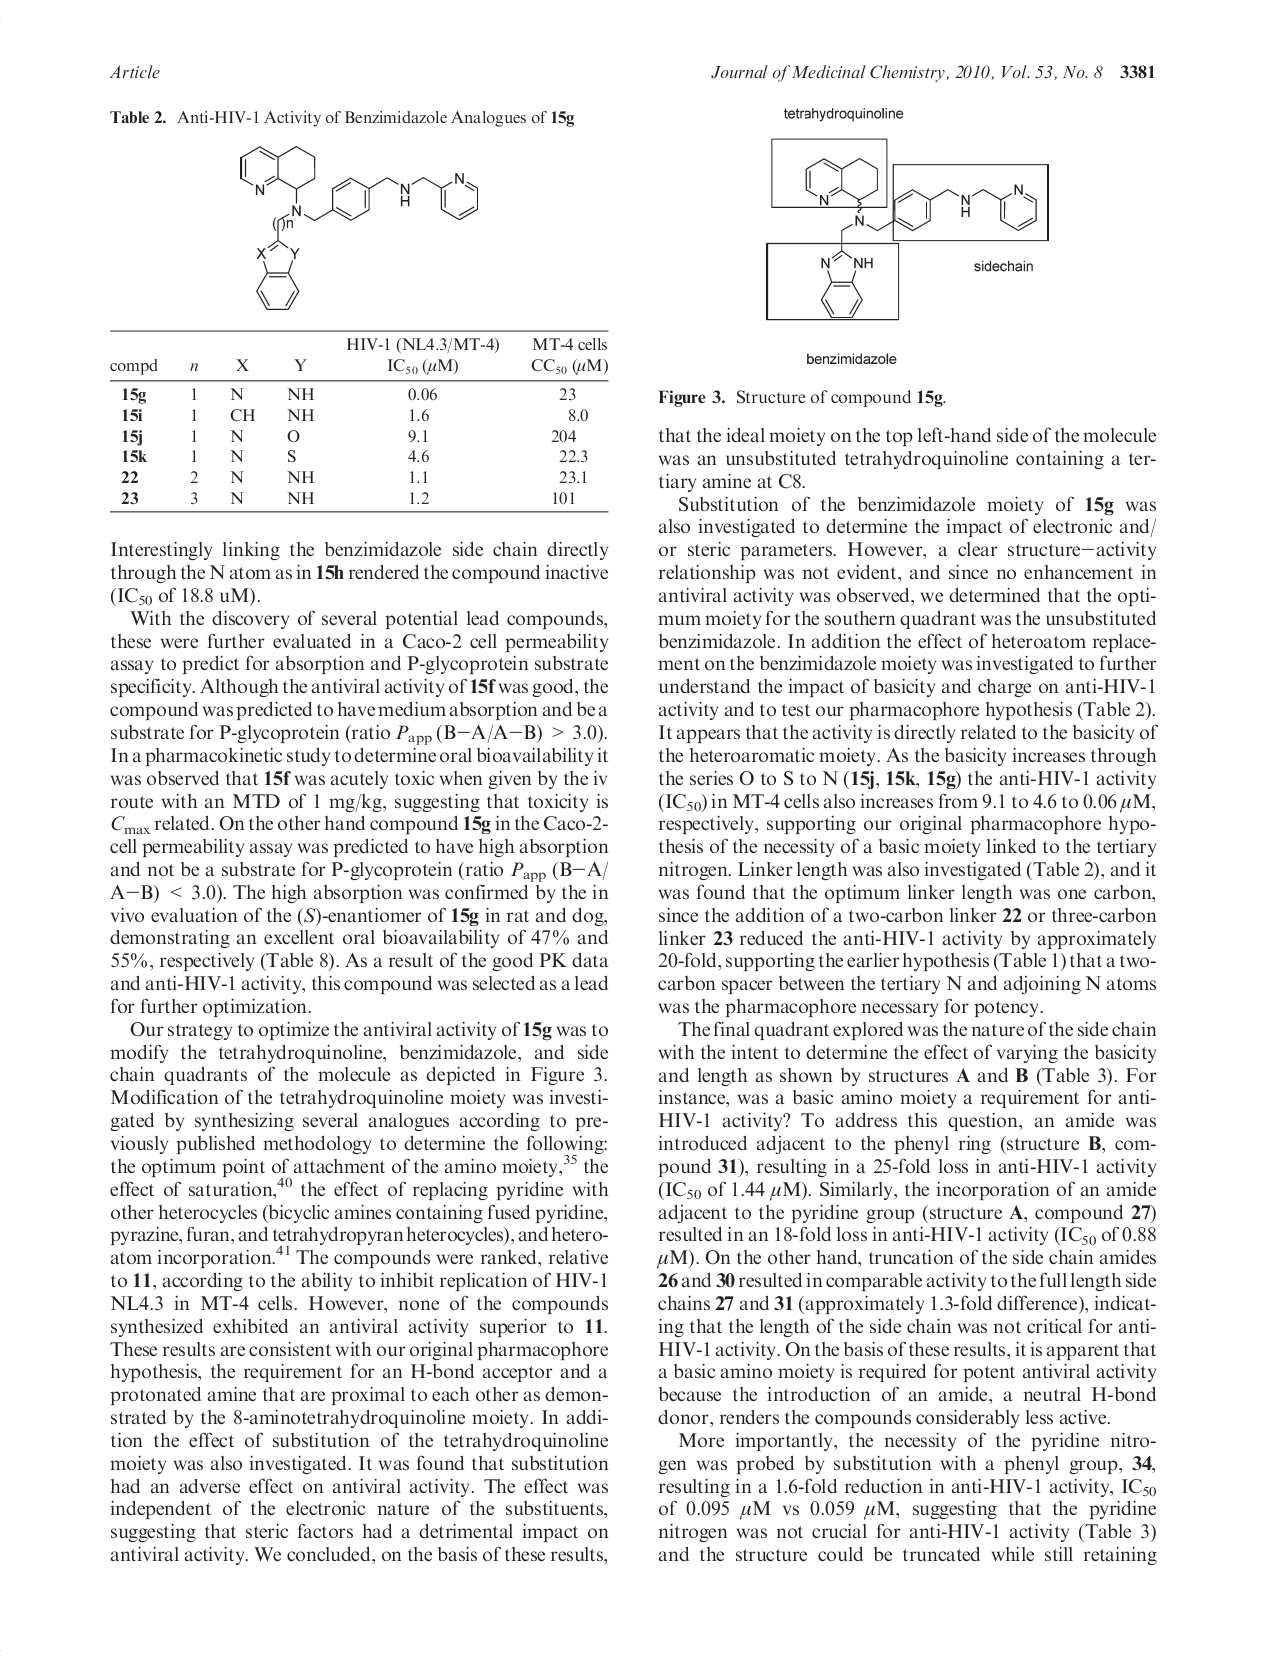exist_molecular: (229, 140, 487, 313), (801, 153, 1039, 322)
